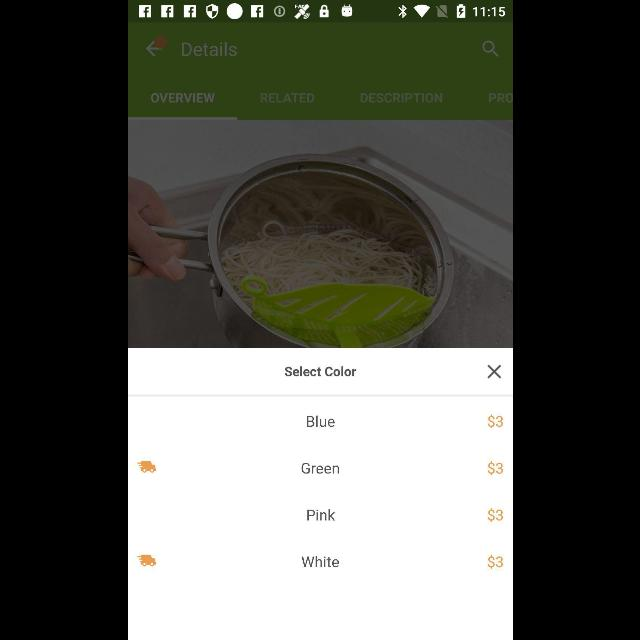icon: (146, 36, 166, 58), (482, 40, 498, 58), (486, 365, 500, 379)
image: (128, 121, 512, 347), (136, 555, 156, 567), (136, 461, 156, 473)
panel: (128, 348, 512, 640)
text: (359, 93, 441, 103), (180, 42, 236, 56), (284, 366, 356, 376), (259, 92, 313, 104), (150, 93, 214, 103), (301, 556, 339, 568), (301, 462, 339, 474), (306, 415, 334, 427), (307, 509, 335, 521), (488, 92, 512, 104), (487, 554, 503, 570), (487, 508, 503, 522), (487, 461, 503, 475), (488, 414, 502, 428)
uppertaskbar: (128, 1, 512, 23)
